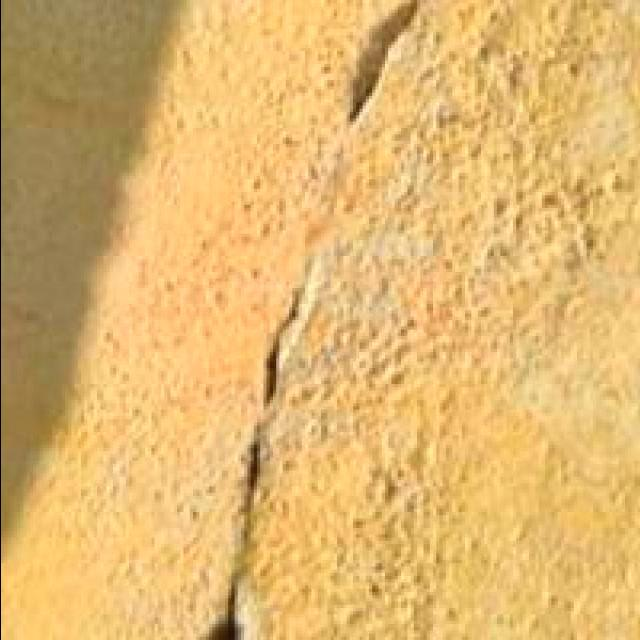SurfaceCrack: (206, 0, 428, 640)
